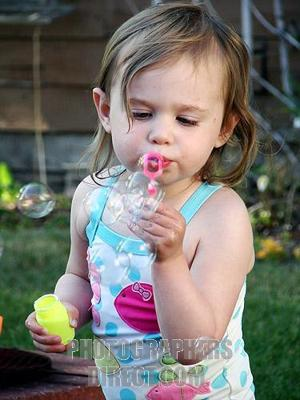person: (24, 5, 258, 400)
